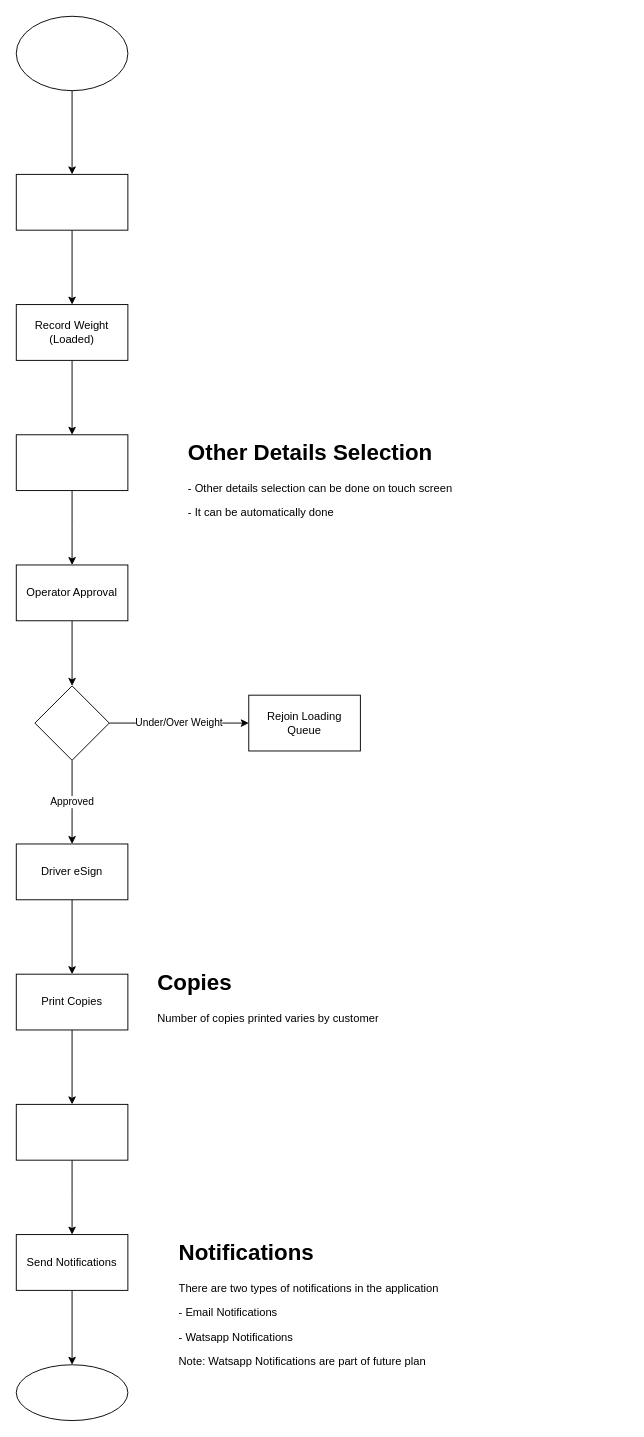
This 644x1437 diagram has some shape labels left out. The shapes that lost their labels are listed below. From the top down, each one's box as (x1, y1, x2, y2) in pixels, then its label:
(15, 173, 128, 230): LPR Recognition
(15, 434, 128, 491): Other Details Selection
(15, 1103, 128, 1160): Post to SAP
